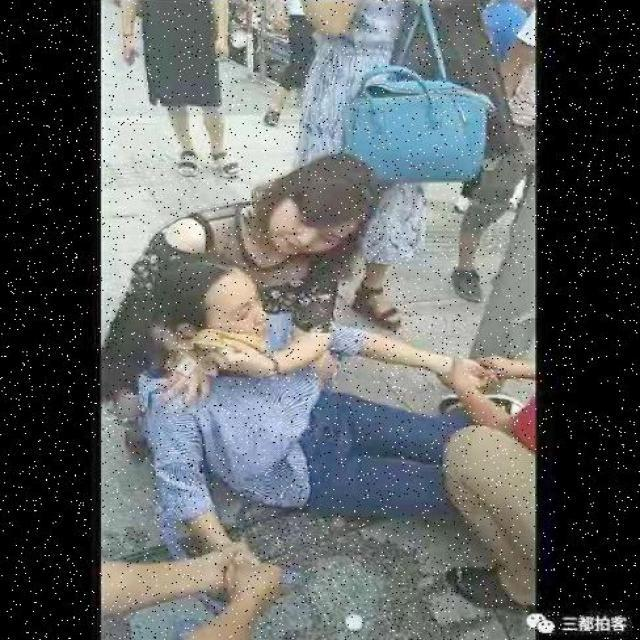fall: (137, 266, 446, 528)
